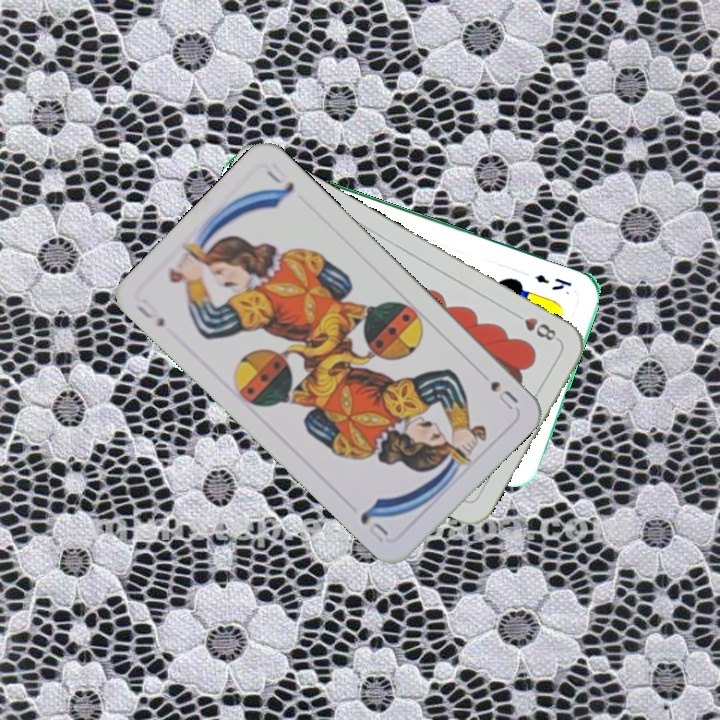EK: (531, 270, 575, 293)
H8: (508, 308, 562, 344)
SU: (132, 294, 168, 330), (486, 376, 521, 413)
